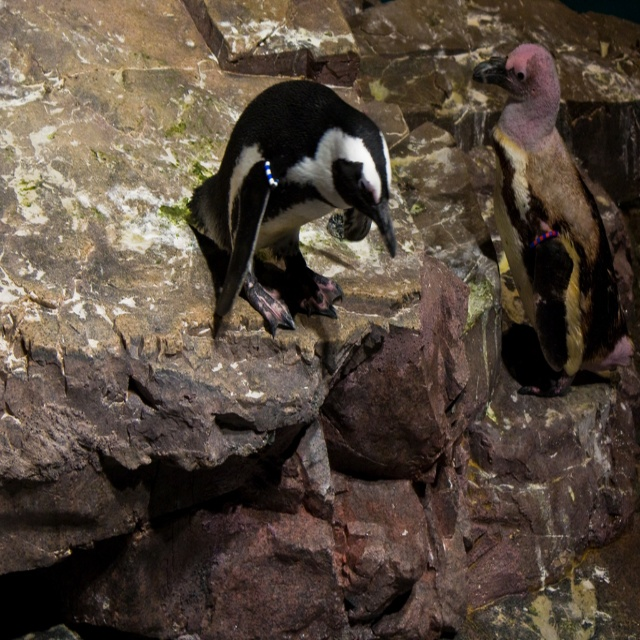Penguin: (466, 42, 638, 406), (182, 78, 398, 333)
